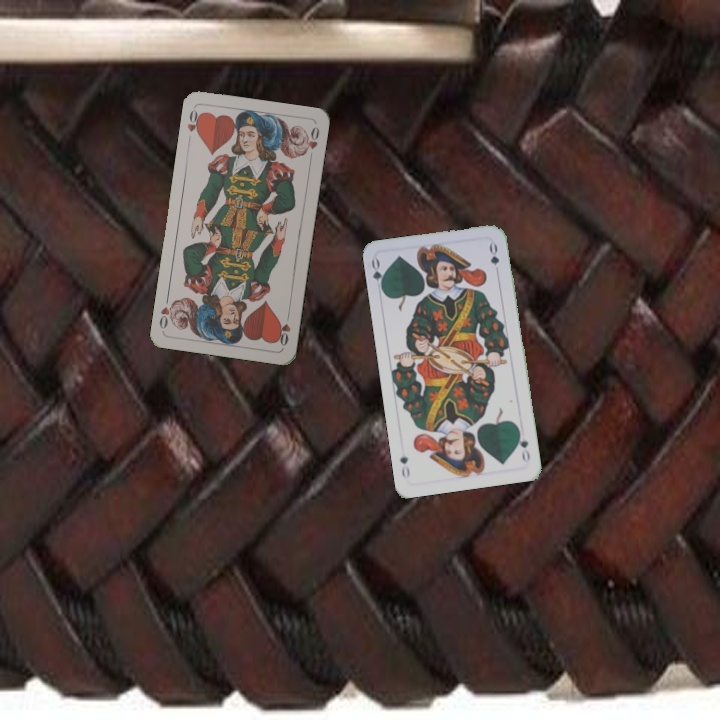GO: (367, 255, 388, 295), (514, 425, 532, 465)
HO: (183, 105, 204, 145), (274, 309, 293, 348)
